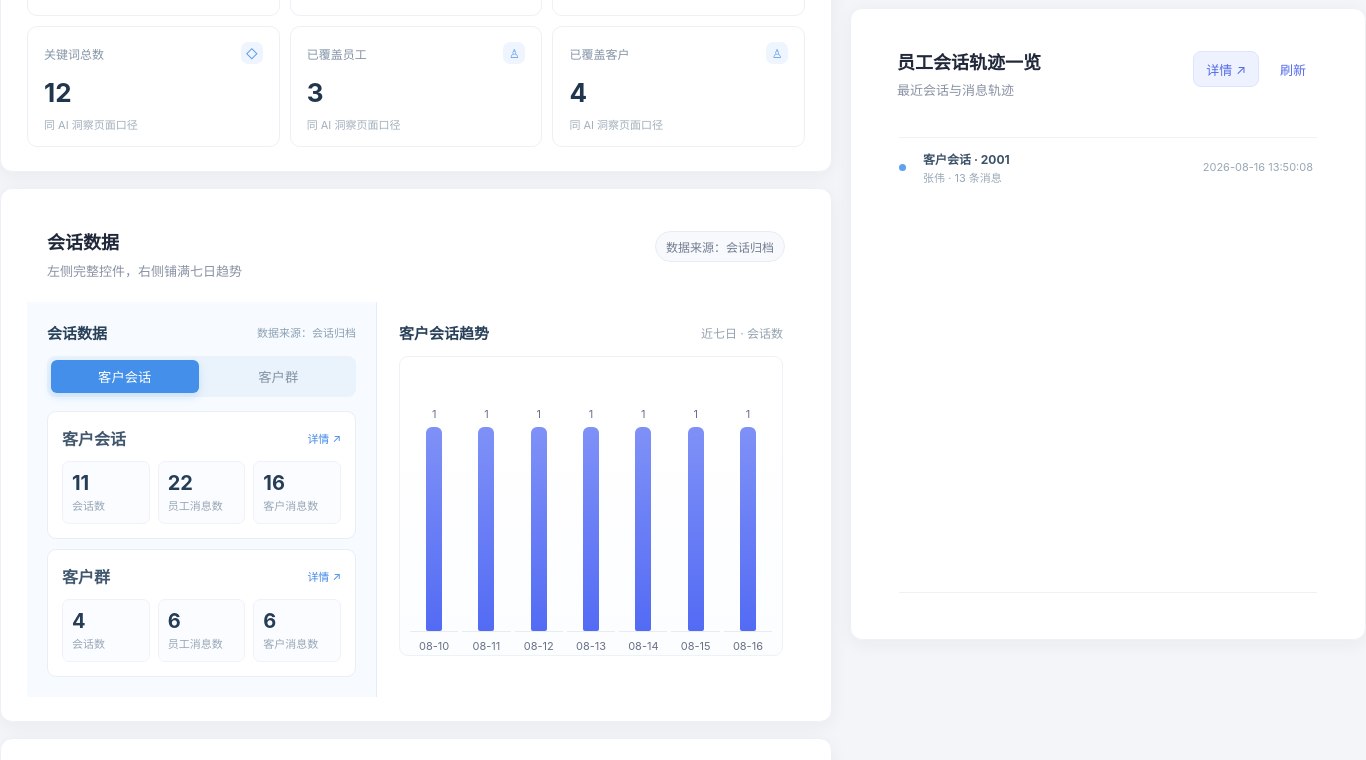
Test: DashboardOverviewPage › links the conversation selection to the right trend chart without a redundant detail table
This screenshot has width=1366, height=760.
(page scrolled)
expect the picture named "近七日客户会话趋势" is shown: met, box [399, 356, 783, 656]
Click the button "客户群" at (278, 376), box [204, 360, 352, 392]
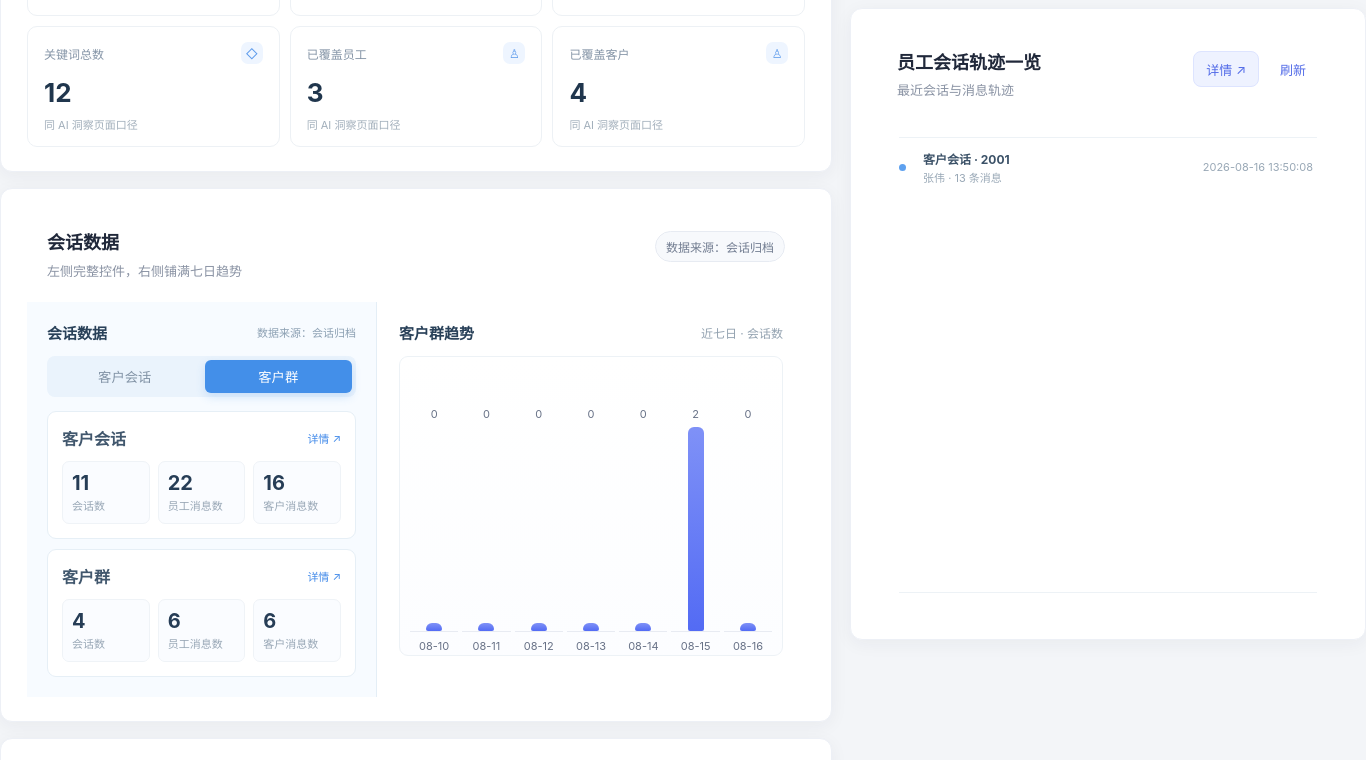
expect the picture named "近七日客户群趋势" is shown: met, box [399, 356, 783, 656]
